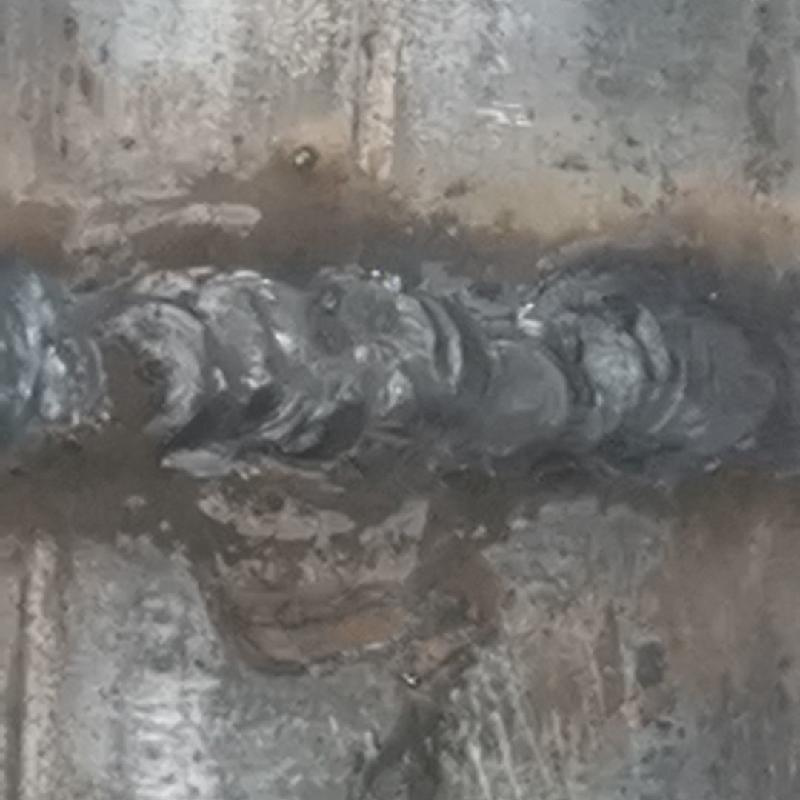good: (1, 248, 799, 489)
